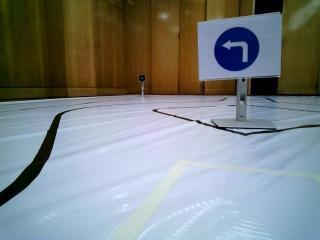left: (199, 21, 280, 77)
